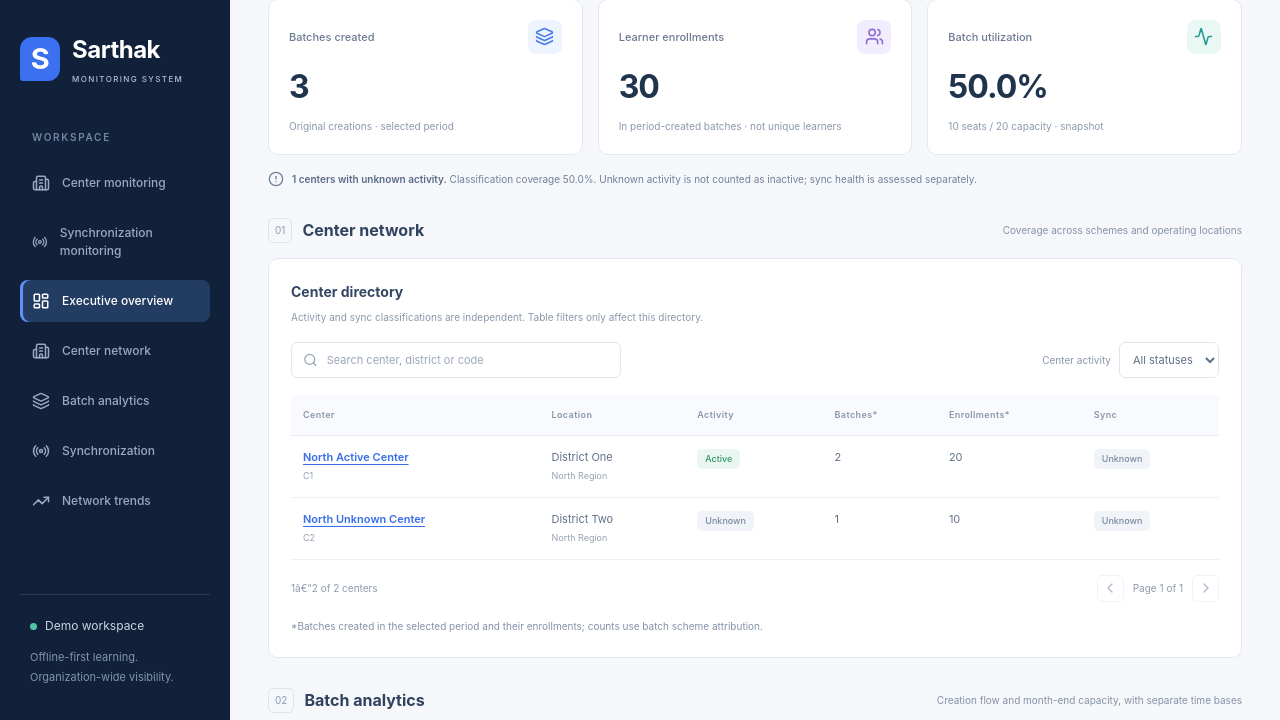
Test case: executive dashboard user behavior › keeps unknown activity distinct and local directory searches independent of API scope
The width and height of the screenshot is (1280, 720).
(page scrolled)
Expected: the text "North Active Center" is shown, [303,450,409,464]
Select "Unknown" in the dropdown labelled "Center activity" at (1169, 360), box [1119,342,1219,378]
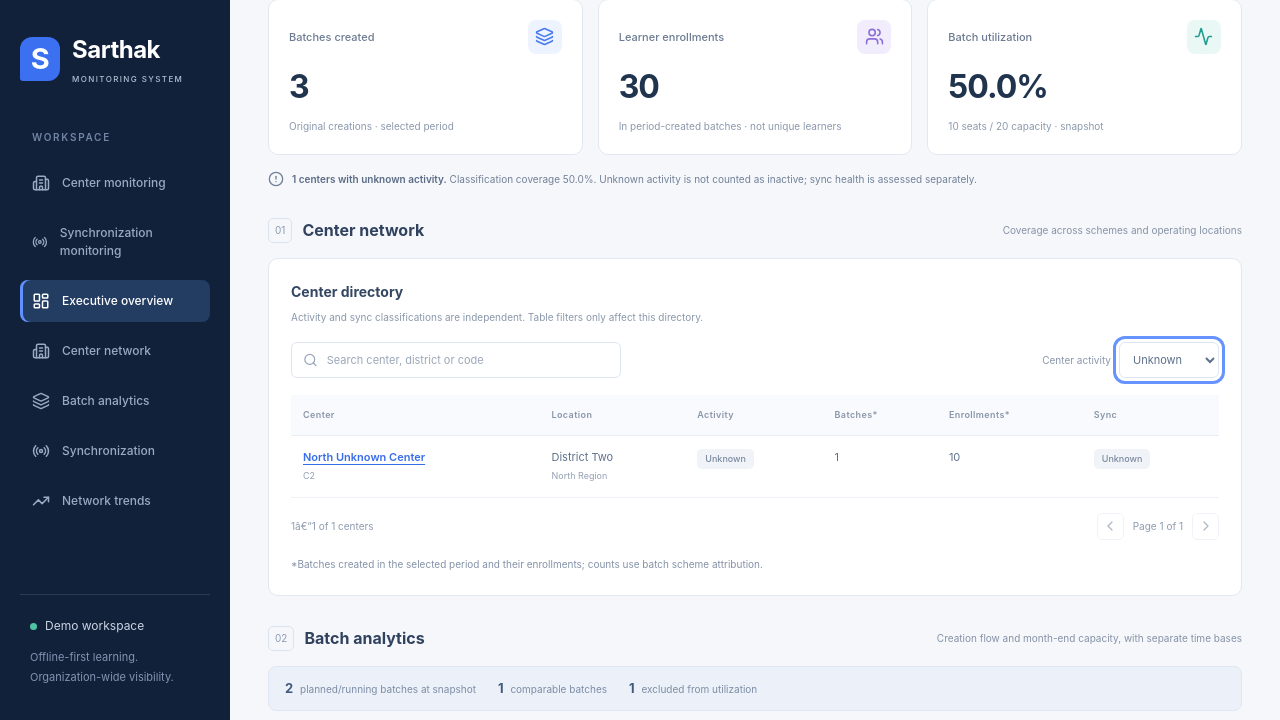
Expected: the text "North Unknown Center" is shown, [303,450,425,464]
Now the link "North Active Center" is gone
Type "unmatched" into the field named "Search centers" at (468, 360), box [327,352,609,368]
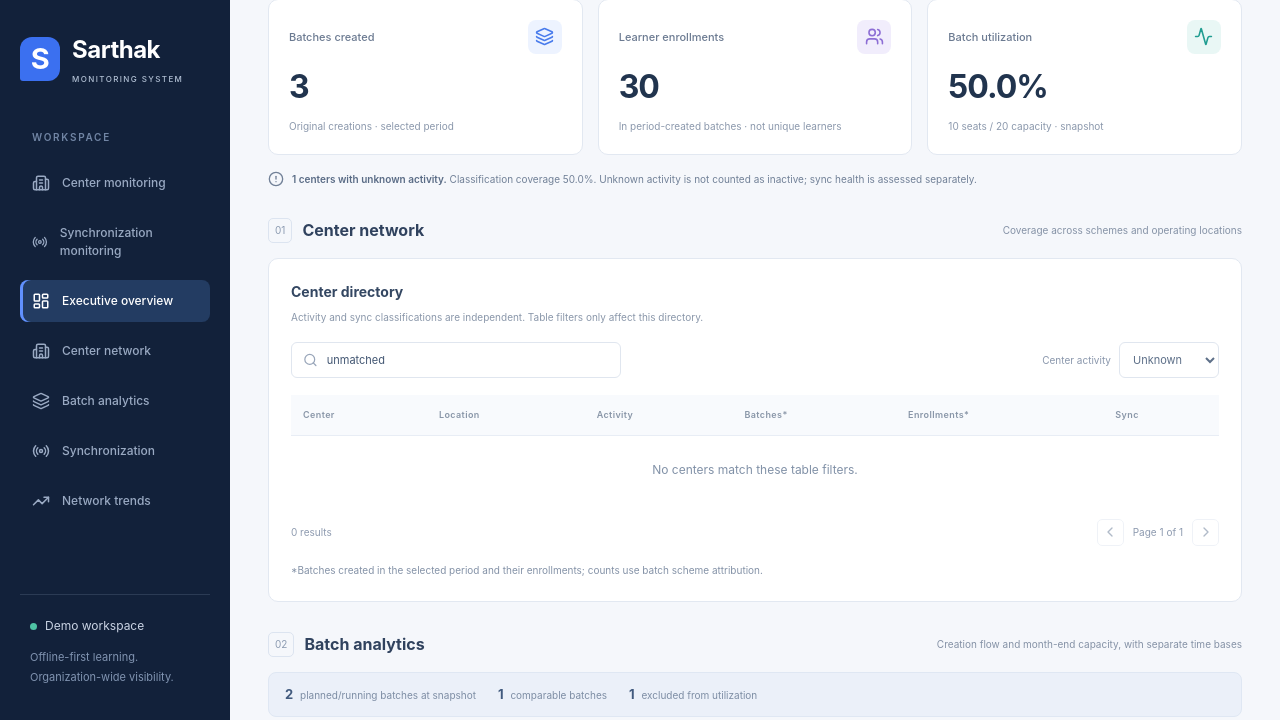
Expected: the text "1 centers with unknown activity." is shown, [292,173,447,185]
Now the text "No centers match these table filters." is shown, box [652,462,858,477]
